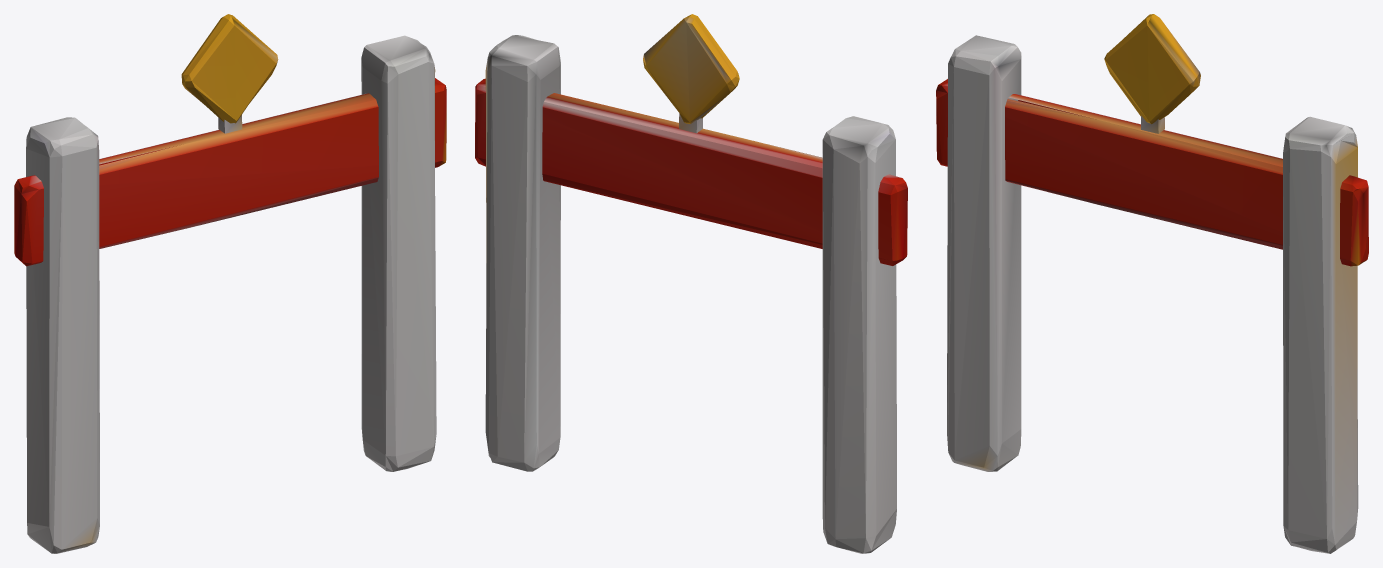
The picture shows the model from 3 angles, left to right: view 1: azimuth 30°, elevation 25°; view 2: azimuth 150°, elevation 25°; view 3: azimuth 330°, elevation 25°; orthographic projection.
Visible parts, largest first — view 1: geometry_0; view 2: geometry_0; view 3: geometry_0.
Boxes of the visible parts, <box> form: geometry_0: <box>14,14,446,553</box>; geometry_0: <box>475,14,907,553</box>; geometry_0: <box>936,14,1368,553</box>.
Bounding box in the file's own units: 0.8706 × 0.9507 × 0.1079.
